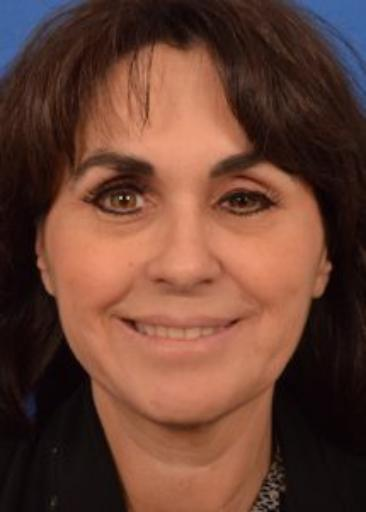left_eye: (213, 190, 280, 220)
left_lip_corner: (221, 314, 250, 337)
right_eye: (83, 177, 157, 222)
right_lip_corner: (106, 310, 137, 335)
